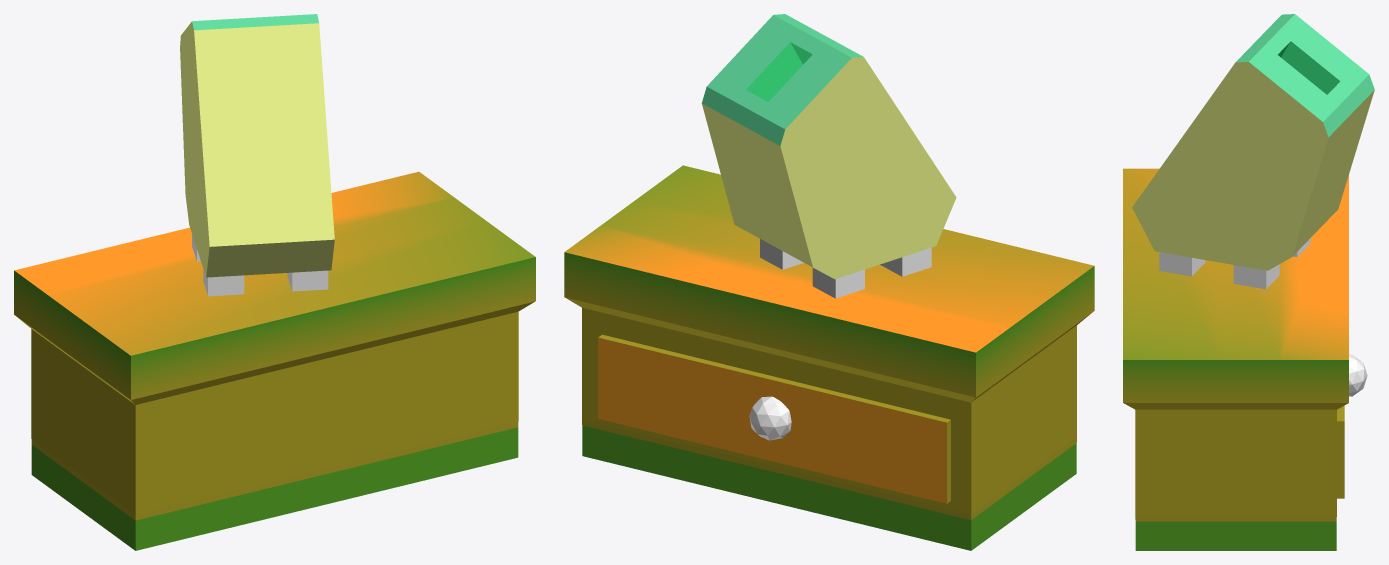
The model's file is FishKnifeProvider.fbx.
3 views of the same model, side by side, from view 1: azimuth 30°, elevation 25°; view 2: azimuth 150°, elevation 25°; view 3: azimuth 270°, elevation 25° (orthographic). The views are drawn at different scales.
Visible parts, largest first — view 1: Base, Knife_Block, Top, Feet; view 2: Base, Knife_Block, Top, Feet, Handle; view 3: Base, Knife_Block, Top, Feet, Handle.
Boxes of the visible parts, x1,y1,x2,y2 form: Base: [14, 257, 535, 550]; Knife_Block: [180, 14, 334, 277]; Top: [14, 171, 535, 355]; Feet: [192, 234, 328, 296]; Base: [564, 252, 1094, 550]; Knife_Block: [701, 14, 956, 279]; Top: [564, 165, 1094, 352]; Feet: [760, 239, 931, 298]; Handle: [749, 396, 791, 440]; Base: [1123, 360, 1348, 550]; Knife_Block: [1132, 14, 1374, 270]; Top: [1123, 168, 1348, 359]; Feet: [1159, 238, 1310, 289]; Handle: [1349, 354, 1367, 396].
Size of the model in its own units: 100 by 103 by 55.6.
